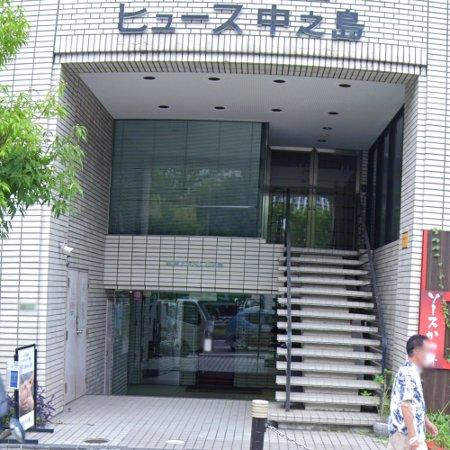stairs: (270, 249, 383, 428)
